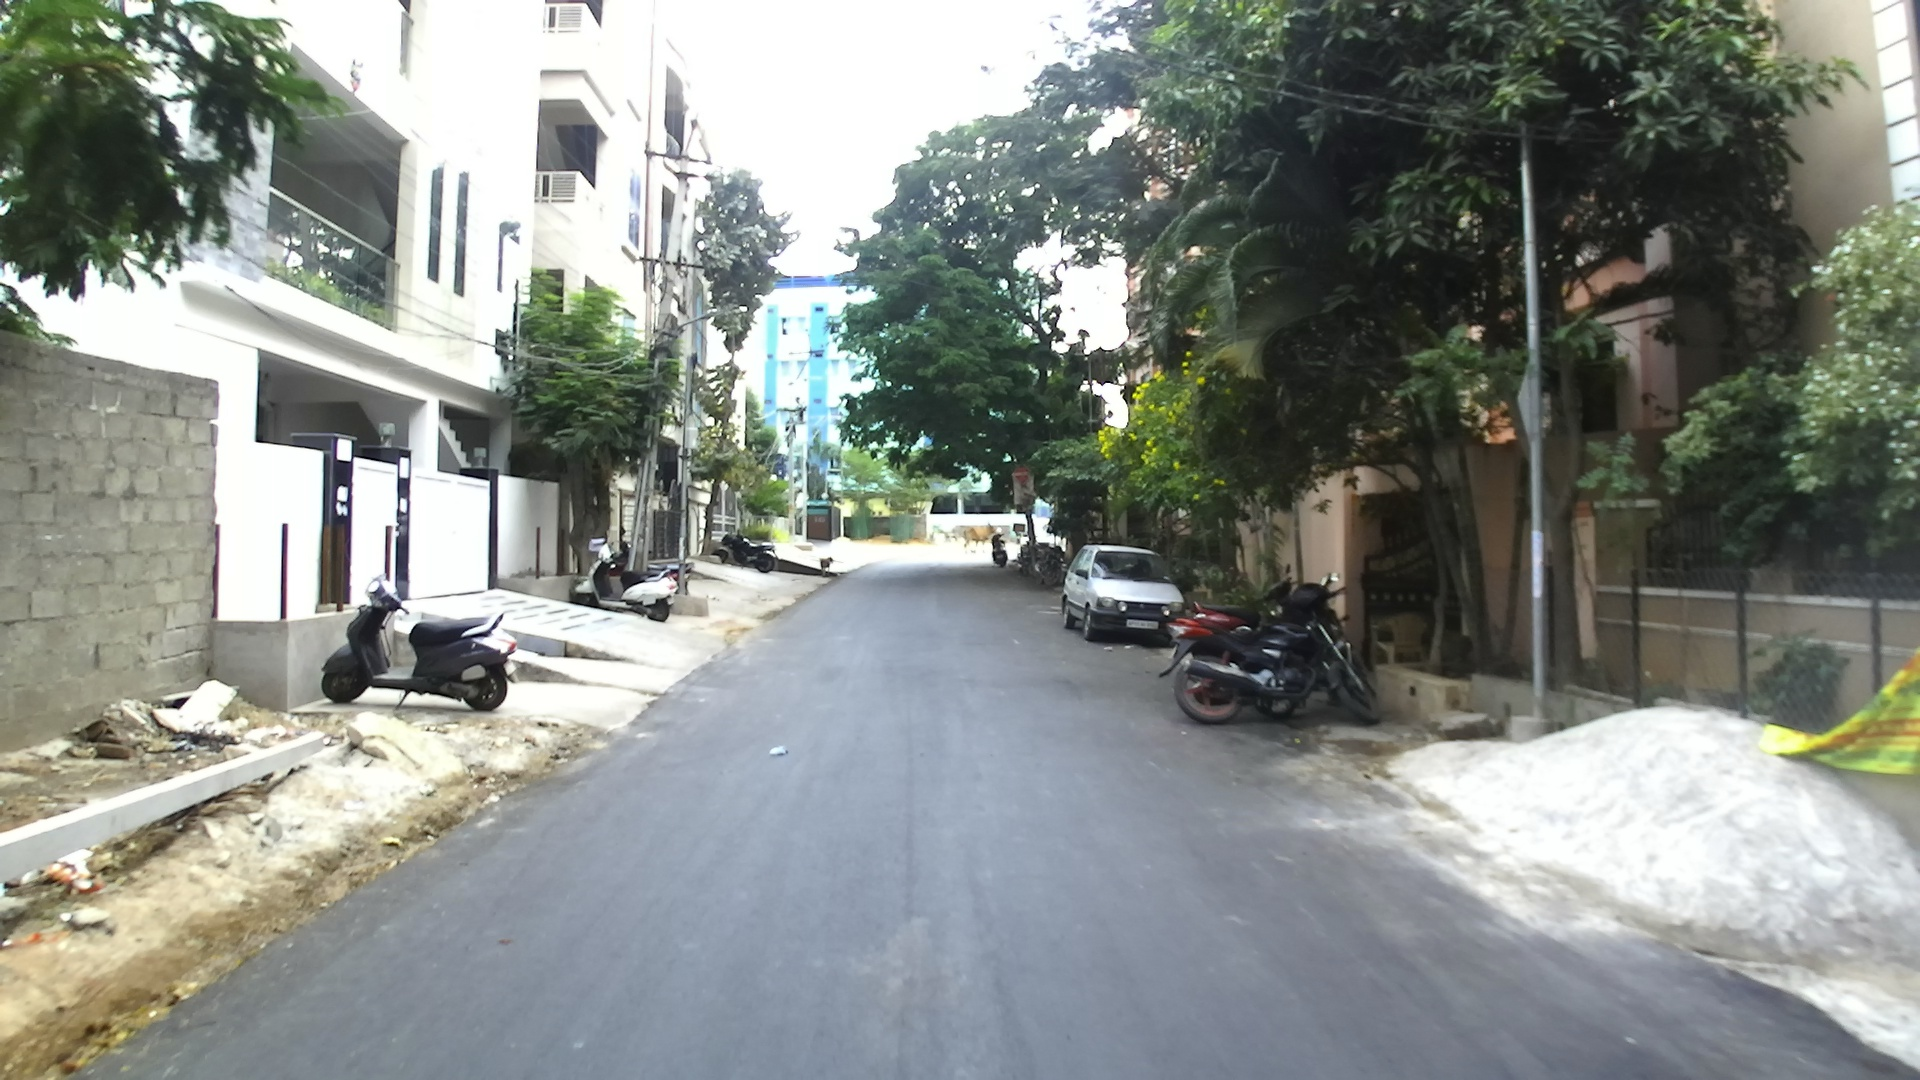vehicle: (1167, 591, 1373, 724), (1060, 545, 1183, 644)
